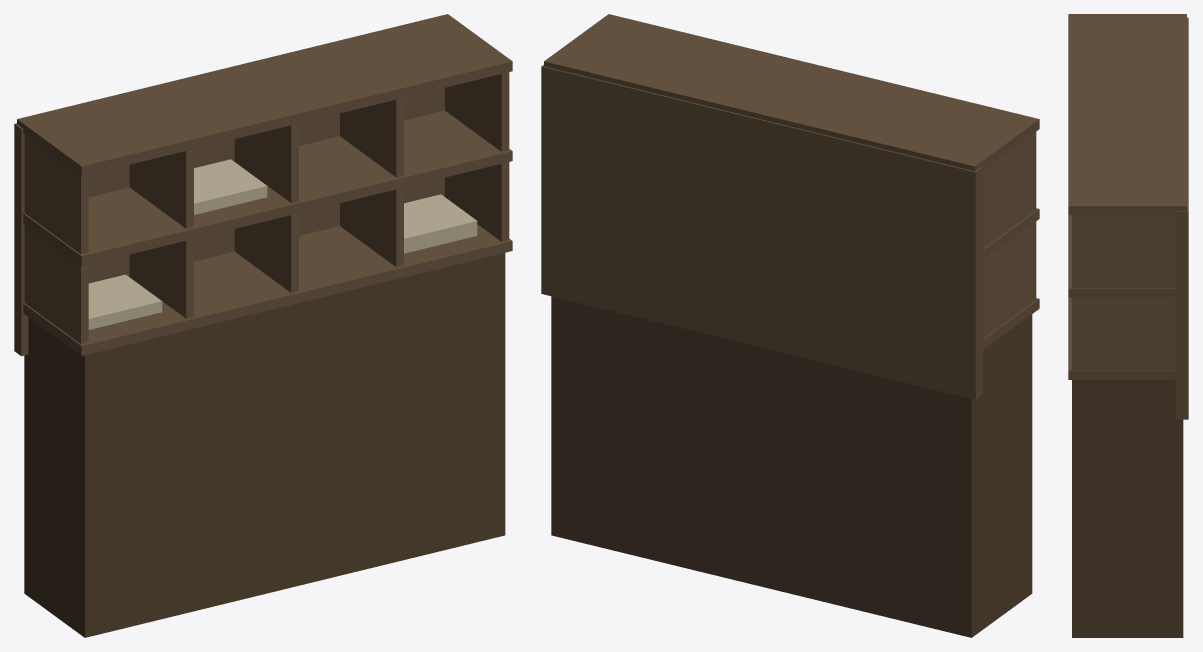
Rendered from TicketPigeonholes.glb.
3 renders of one model, left to right at view 1: azimuth 30°, elevation 25°; view 2: azimuth 150°, elevation 25°; view 3: azimuth 270°, elevation 25°, orthographic. The views are drawn at different scales.
Visible parts, largest first — view 1: TicketPigeonholes; view 2: TicketPigeonholes; view 3: TicketPigeonholes.
Part boxes in pixels (<box>): TicketPigeonholes: <box>14,14,512,637</box>; TicketPigeonholes: <box>541,14,1039,637</box>; TicketPigeonholes: <box>1068,14,1188,637</box>.
Size of the model in its own units: 1.24 by 1.29 by 0.3245.
